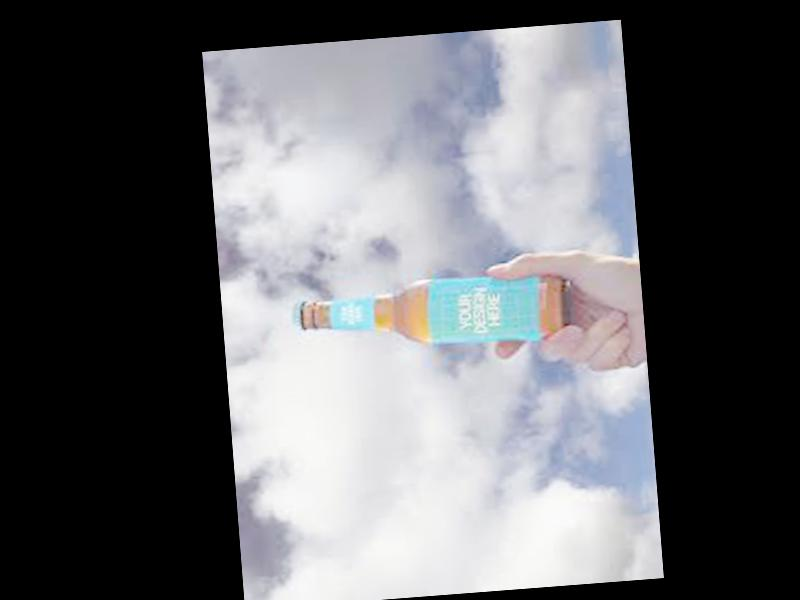Beer: (292, 268, 569, 352)
